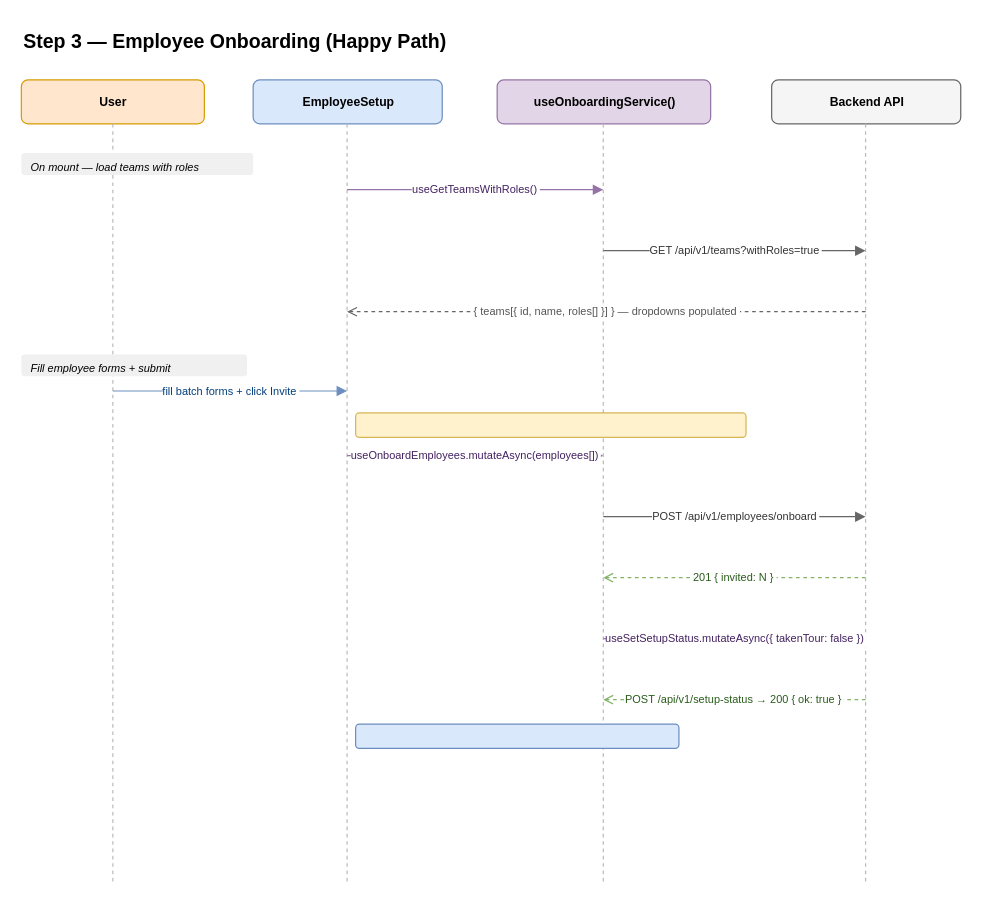
Image size: 982x908. Some labels were removed from this diagram. The box of each missing label's shape, as (x1, y1, x2, y2) in pixels:
[self] router.push('/onboarding/welcome'): (354, 723, 679, 748)
[self] Zod validate each employee (onboardEmployeeSchema): (354, 412, 746, 437)
